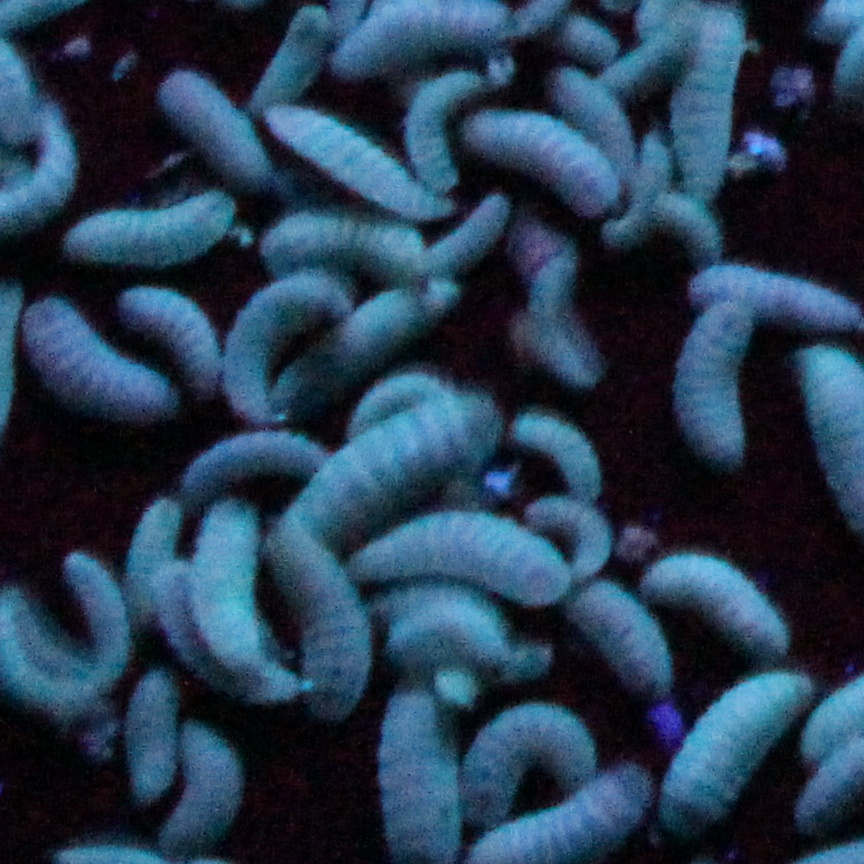larve: (308, 388, 500, 524), (661, 676, 800, 847), (273, 288, 438, 412), (25, 289, 179, 416), (268, 106, 435, 221), (220, 277, 346, 429), (268, 524, 362, 717), (153, 572, 296, 697), (461, 704, 604, 822), (346, 516, 568, 589), (470, 109, 615, 214), (674, 4, 749, 200), (159, 60, 270, 185), (672, 299, 754, 460), (648, 559, 784, 654), (194, 499, 268, 666), (63, 191, 233, 263), (530, 230, 593, 391), (563, 591, 666, 689), (253, 215, 430, 272), (158, 722, 240, 845), (120, 290, 216, 393), (380, 605, 523, 667), (549, 72, 635, 175), (69, 546, 127, 698), (410, 70, 481, 184), (251, 3, 328, 108), (605, 130, 672, 242), (507, 414, 601, 490), (527, 493, 608, 580), (430, 196, 511, 278), (125, 500, 177, 621), (346, 374, 445, 432), (603, 22, 681, 95), (131, 668, 173, 800), (653, 198, 723, 259)
